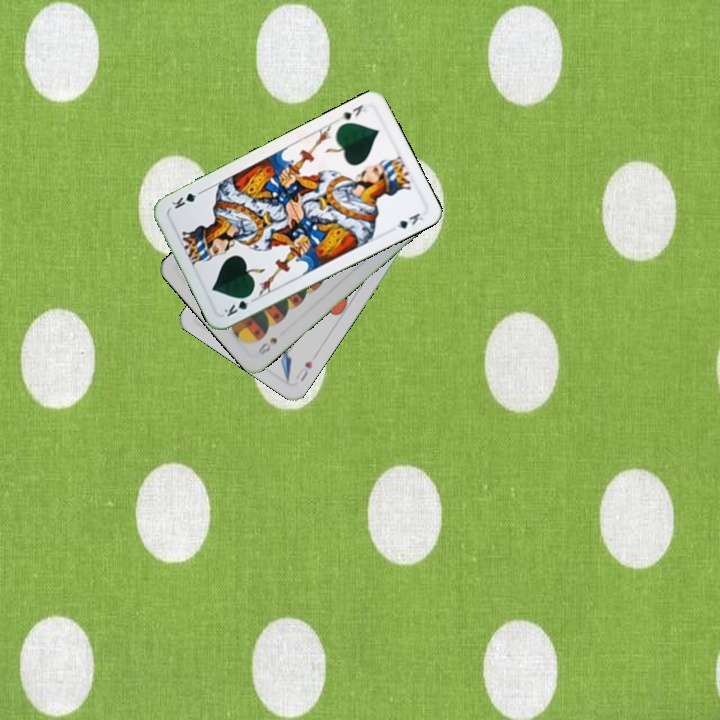GK: (220, 290, 258, 319), (336, 100, 371, 123)
HU: (292, 356, 315, 384)
S8: (254, 333, 280, 358)
